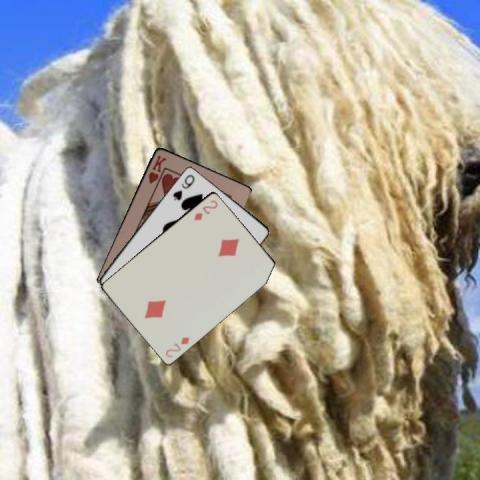2d: (162, 333, 191, 359), (192, 197, 220, 221)
9s: (170, 171, 196, 202)
Kh: (146, 152, 168, 185)
